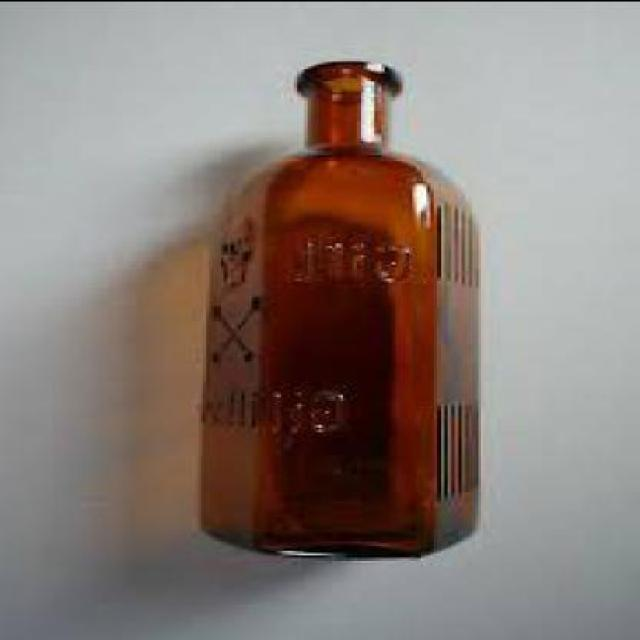glass: (200, 60, 486, 558)
